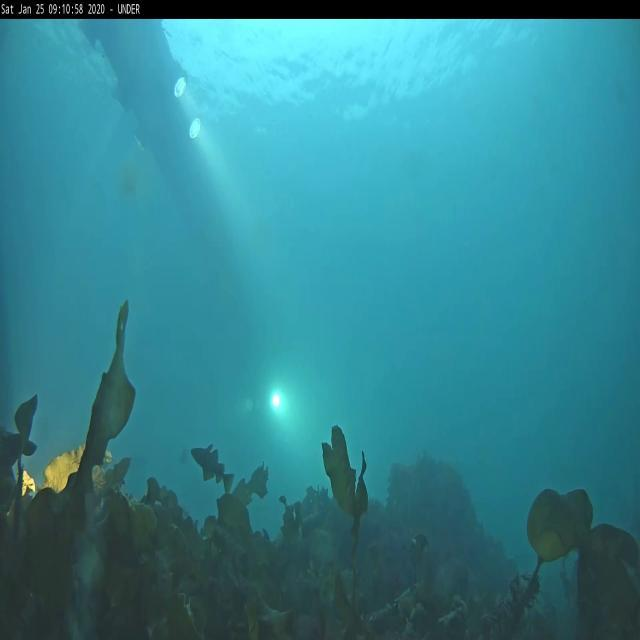fish: (190, 440, 232, 497)
